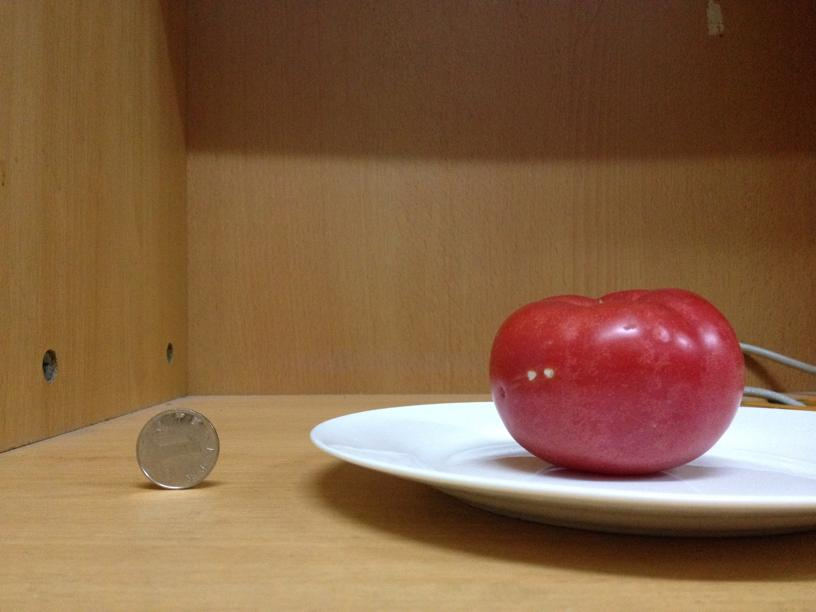coin: (137, 412, 219, 489)
tomato: (484, 287, 744, 471)
